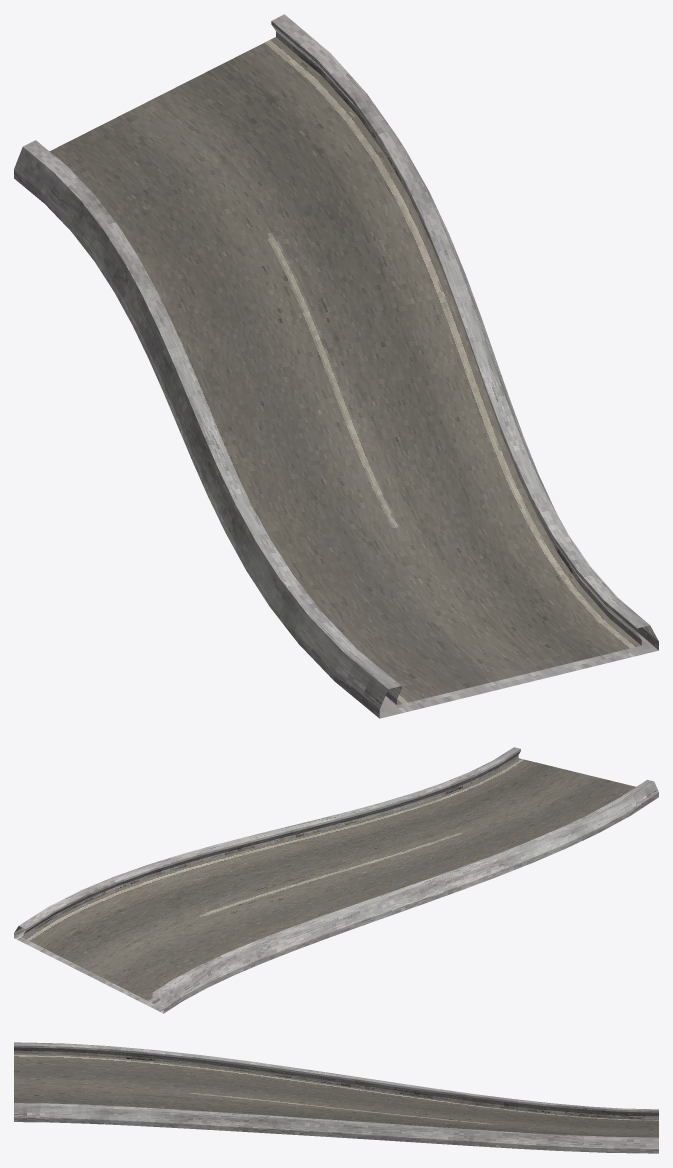
The model's file is road-Chicane-Flat-HalfBankedLeft-Even-Right1-Size4.glb.
The picture shows the model from 3 angles, top to bottom: view 1: azimuth 30°, elevation 25°; view 2: azimuth 150°, elevation 25°; view 3: azimuth 270°, elevation 25°; orthographic projection. The views are drawn at different scales.
Visible parts, largest first — view 1: road-Chicane-Flat-HalfBankedLeft-Even-Right1-Size4; view 2: road-Chicane-Flat-HalfBankedLeft-Even-Right1-Size4; view 3: road-Chicane-Flat-HalfBankedLeft-Even-Right1-Size4.
Boxes of the visible parts, bbox=[...] form: road-Chicane-Flat-HalfBankedLeft-Even-Right1-Size4: bbox=[14, 14, 658, 718]; road-Chicane-Flat-HalfBankedLeft-Even-Right1-Size4: bbox=[14, 747, 658, 1013]; road-Chicane-Flat-HalfBankedLeft-Even-Right1-Size4: bbox=[14, 1042, 658, 1153].
Bounding box in the file's own units: 2 × 0.3359 × 4.
Materials: 2 (2 with a texture image).
